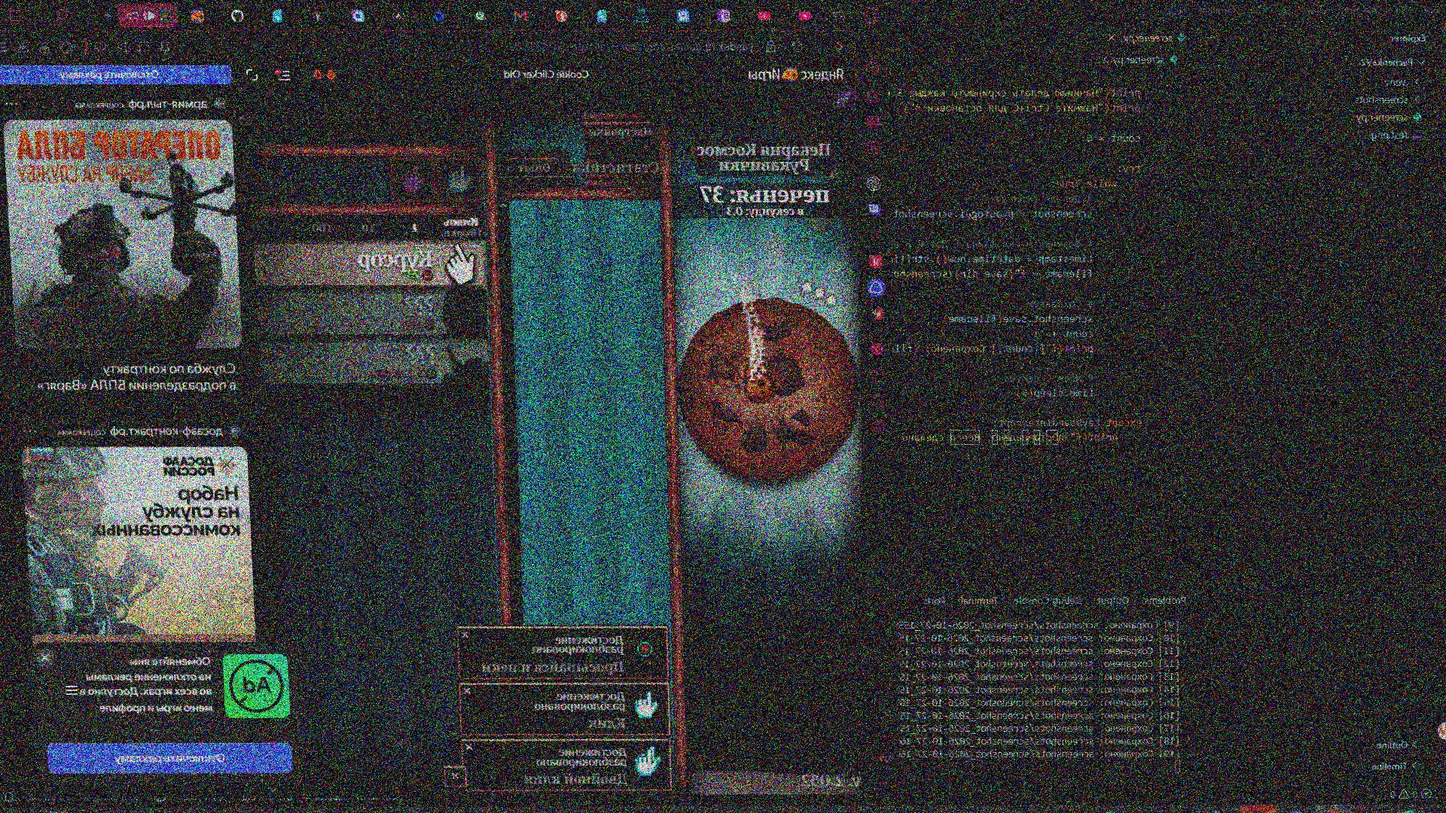game: (665, 283, 854, 495)
pokypki: (248, 238, 496, 410)
